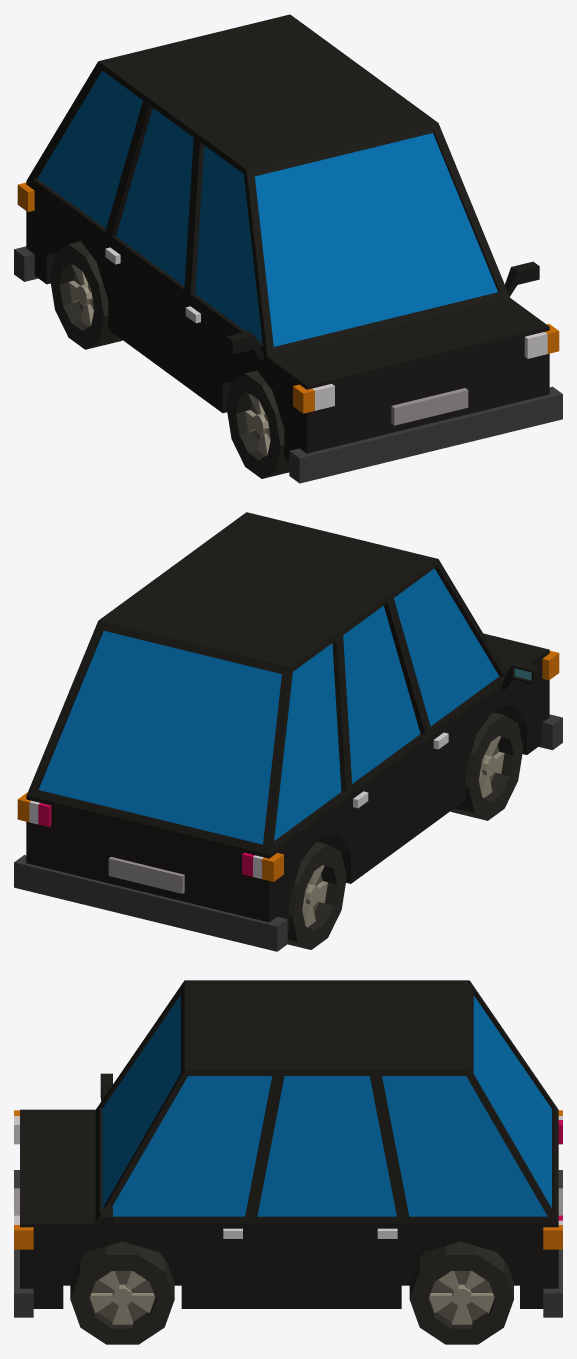
The model's file is car_6.fbx.
The picture shows the model from 3 angles, top to bottom: view 1: azimuth 30°, elevation 25°; view 2: azimuth 150°, elevation 25°; view 3: azimuth 270°, elevation 25°; orthographic projection. The views are drawn at different scales.
Visible parts, largest first — view 1: car_6; view 2: car_6; view 3: car_6.
Part boxes in pixels (bbox=[...]): car_6: bbox=[14, 14, 562, 483]; car_6: bbox=[14, 512, 562, 951]; car_6: bbox=[14, 980, 562, 1344].
Size of the model in its own units: 253 by 215 by 408.
